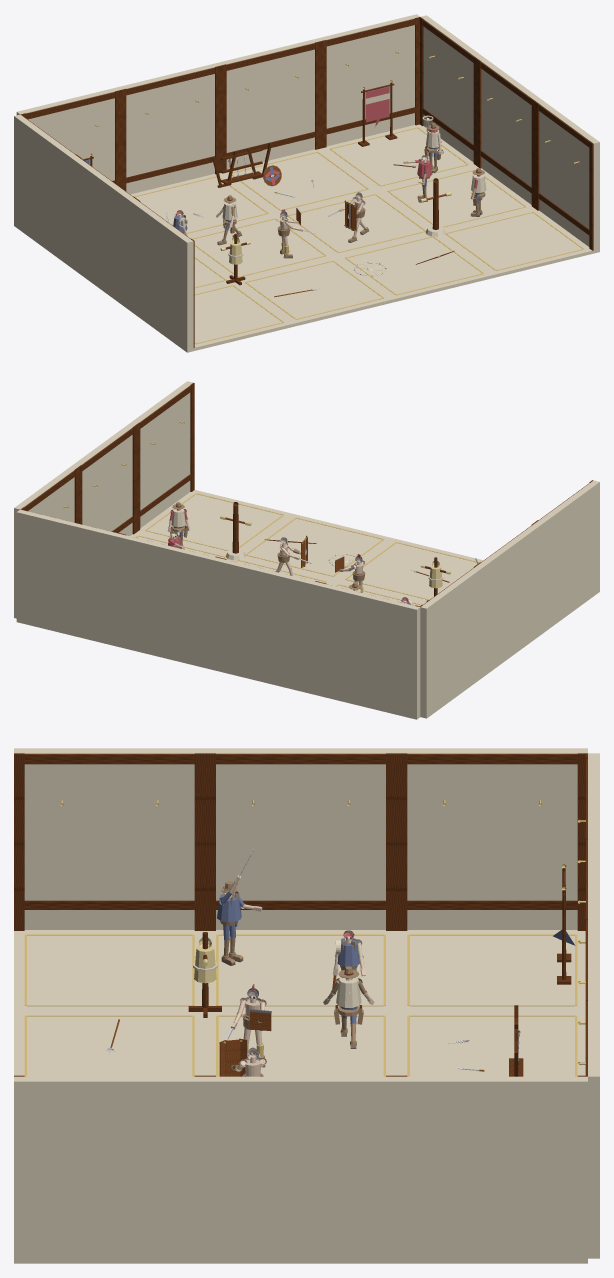
File: legendary-warriors-kit-warriors-training-yard-c6385d63__39227.glb
3 renders of one model, top to bottom at view 1: azimuth 30°, elevation 25°; view 2: azimuth 150°, elevation 25°; view 3: azimuth 270°, elevation 25°, orthographic. The views are drawn at different scales.
Parts seen in each view (by area): view 1: 013-gallery-wall/0, 014-gallery-wall/0, 015-gallery-wall/0, 020-gallery-wall/0, 018-gallery-wall/0, 016-gallery-wall/0, 021-gallery-wall/0, 005-gallery-floor-tile/0, 011-gallery-floor-tile/0, 008-gallery-floor-tile/0, 019-gallery-wall/0, 017-gallery-wall/0 (+23 smaller); view 2: 012-gallery-wall/0, 015-gallery-wall/0, 013-gallery-wall/0, 014-gallery-wall/0, 016-gallery-wall/0, 018-gallery-wall/0, 020-gallery-wall/0, 021-gallery-wall/0, 008-gallery-floor-tile/0, 011-gallery-floor-tile/0, 005-gallery-floor-tile/0, 019-gallery-wall/0 (+7 smaller); view 3: 019-gallery-wall/0, 017-gallery-wall/0, 021-gallery-wall/0, 020-gallery-wall/0, 016-gallery-wall/0, 018-gallery-wall/0, 002-gallery-floor-tile/0, 000-gallery-floor-tile/0, 005-gallery-floor-tile/0, 003-gallery-floor-tile/0, 001-gallery-floor-tile/0, 004-gallery-floor-tile/0 (+15 smaller).
Boxes of the visible parts, box(x1,y1,x2,y2) form: 013-gallery-wall/0: box(117, 63, 219, 194); 014-gallery-wall/0: box(217, 38, 319, 169); 015-gallery-wall/0: box(317, 14, 419, 146); 020-gallery-wall/0: box(129, 199, 193, 352); 018-gallery-wall/0: box(71, 157, 134, 310); 016-gallery-wall/0: box(14, 114, 77, 267); 021-gallery-wall/0: box(536, 100, 599, 253); 005-gallery-floor-tile/0: box(240, 257, 393, 326); 011-gallery-floor-tile/0: box(441, 208, 593, 277); 008-gallery-floor-tile/0: box(336, 235, 493, 302); 019-gallery-wall/0: box(478, 57, 541, 204); 017-gallery-wall/0: box(420, 15, 483, 162); 012-gallery-wall/0: box(316, 583, 420, 719); 015-gallery-wall/0: box(16, 509, 119, 646); 013-gallery-wall/0: box(216, 558, 319, 695); 014-gallery-wall/0: box(116, 534, 219, 670); 016-gallery-wall/0: box(420, 565, 484, 718); 018-gallery-wall/0: box(478, 522, 542, 675); 020-gallery-wall/0: box(536, 480, 599, 633); 021-gallery-wall/0: box(130, 381, 192, 527); 008-gallery-floor-tile/0: box(243, 514, 392, 580); 011-gallery-floor-tile/0: box(137, 490, 292, 553); 005-gallery-floor-tile/0: box(336, 538, 483, 602); 019-gallery-wall/0: box(72, 423, 135, 535); 019-gallery-wall/0: box(205, 1076, 396, 1263); 017-gallery-wall/0: box(396, 1076, 587, 1263); 021-gallery-wall/0: box(14, 1076, 205, 1263); 020-gallery-wall/0: box(14, 748, 205, 929); 016-gallery-wall/0: box(396, 748, 587, 929); 018-gallery-wall/0: box(205, 748, 396, 929); 002-gallery-floor-tile/0: box(14, 930, 205, 1010); 000-gallery-floor-tile/0: box(396, 930, 585, 1010); 005-gallery-floor-tile/0: box(14, 1011, 205, 1076); 003-gallery-floor-tile/0: box(396, 1011, 585, 1076); 001-gallery-floor-tile/0: box(205, 930, 396, 1010); 004-gallery-floor-tile/0: box(205, 1011, 396, 1076).
Size of the model in its own units: 16.5 by 4.2 by 12.25.
Materials: 12 (2 with a texture image).
